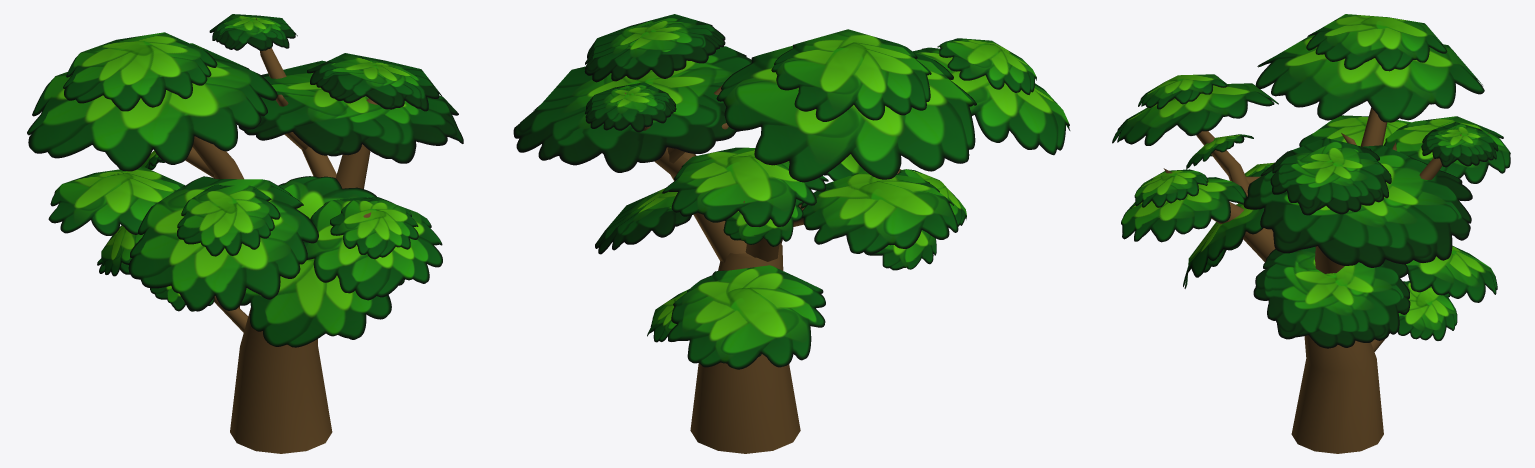
The model's file is Asset_Tree_01.fbx.
The picture shows the model from 3 angles, left to right: view 1: azimuth 30°, elevation 25°; view 2: azimuth 150°, elevation 25°; view 3: azimuth 270°, elevation 25°; orthographic projection. The views are drawn at different scales.
Parts seen in each view (by area): view 1: Asset_Tree_01; view 2: Asset_Tree_01; view 3: Asset_Tree_01.
Boxes of the visible parts, bbox=[...] form: Asset_Tree_01: bbox=[27, 14, 463, 453]; Asset_Tree_01: bbox=[513, 14, 1070, 453]; Asset_Tree_01: bbox=[1112, 14, 1510, 453].
Size of the model in its own units: 3136 by 2874 by 2969.
Materials: 2 (1 with a texture image).
